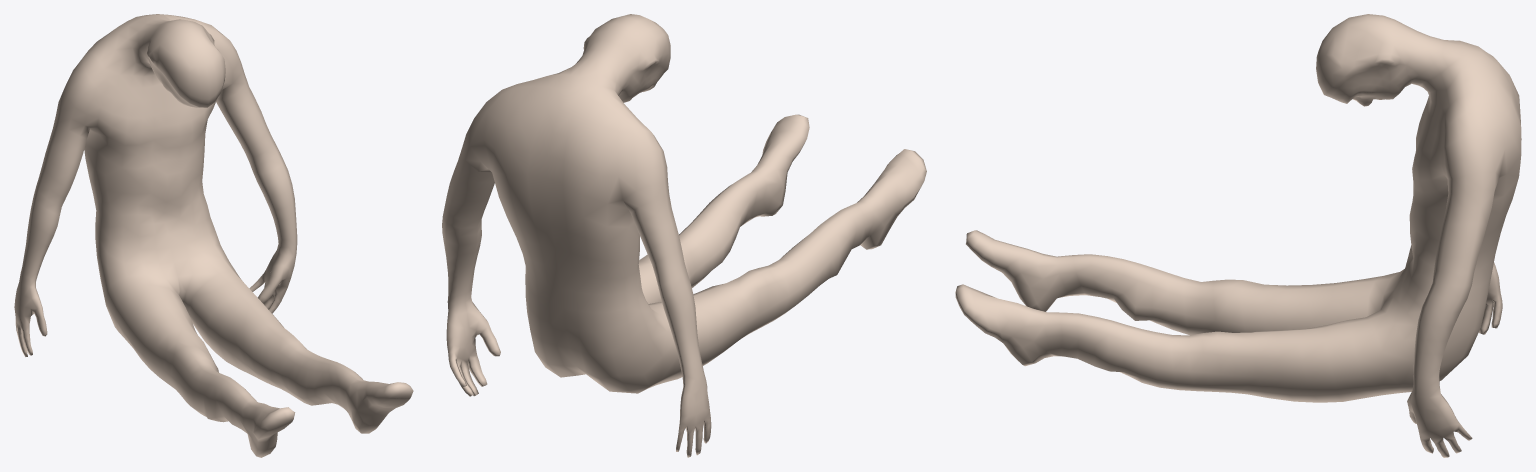
Rendered from slumpedMan.fbx.
3 views of the same model, side by side, from view 1: azimuth 30°, elevation 25°; view 2: azimuth 150°, elevation 25°; view 3: azimuth 270°, elevation 25° (orthographic). The views are drawn at different scales.
Visible parts, largest first — view 1: humanBody; view 2: humanBody; view 3: humanBody.
Part boxes in pixels (left/top/right/bottom): humanBody: left=14, top=14, right=413, bottom=457; humanBody: left=442, top=14, right=926, bottom=457; humanBody: left=955, top=14, right=1521, bottom=457.
Bounding box in the file's own units: 1.15 × 1.5 × 2.
